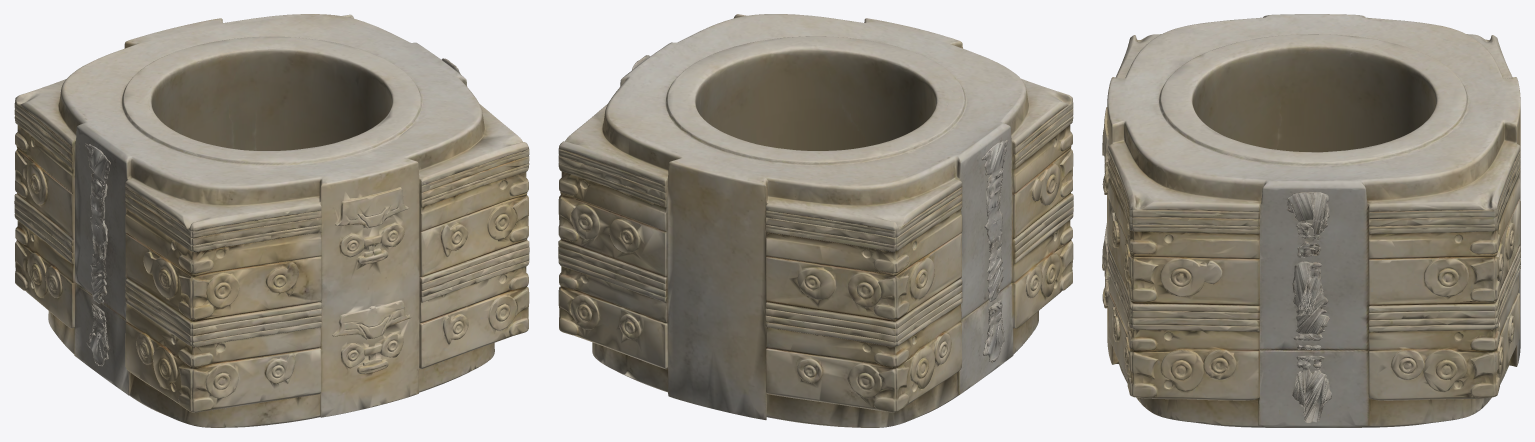
The picture shows the model from 3 angles, left to right: view 1: azimuth 30°, elevation 25°; view 2: azimuth 150°, elevation 25°; view 3: azimuth 270°, elevation 25°; orthographic projection. The views are drawn at different scales.
Parts seen in each view (by area): view 1: node_0; view 2: node_0; view 3: node_0.
Part boxes in pixels (bbox=[...]): node_0: bbox=[14, 14, 529, 427]; node_0: bbox=[558, 14, 1073, 427]; node_0: bbox=[1102, 14, 1520, 427].
Bounding box in the file's own units: 0.8631 × 0.5577 × 0.8561.
Materials: 1 (1 with a texture image).
